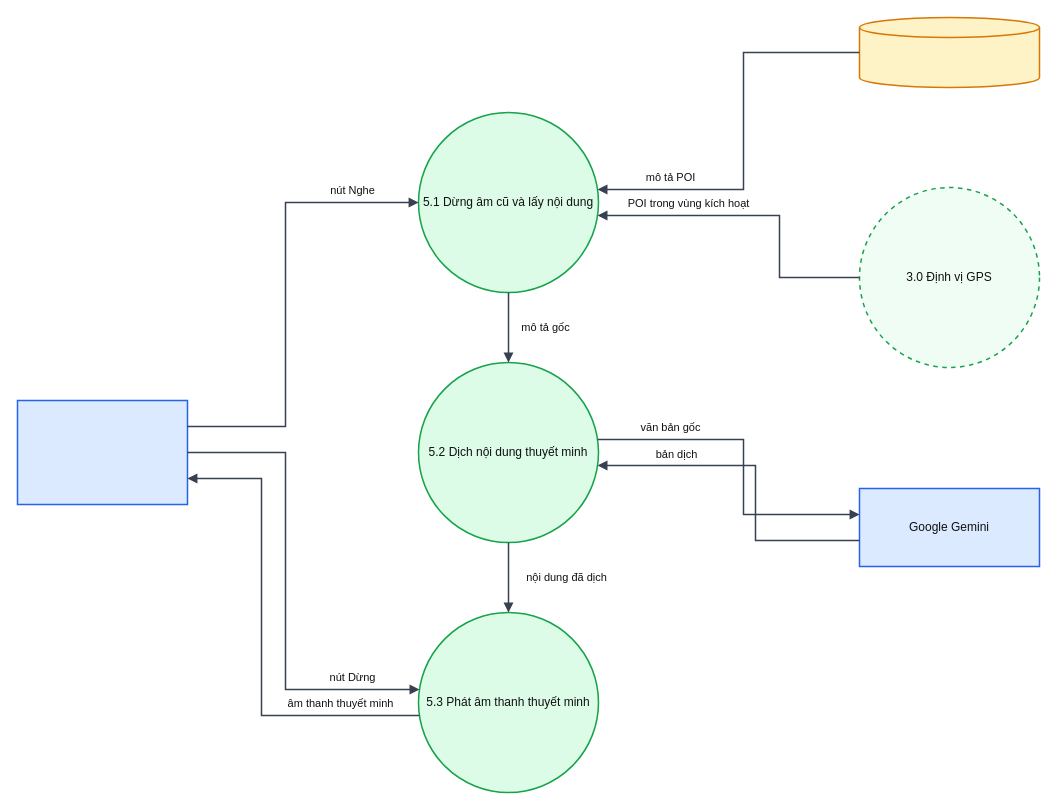
This 1058x811 diagram has some shape labels left out. The centre of each missing label's shape, as x and y in pixels:
"D1 POI" belongs at point (949, 52).
"Khách tham quan" belongs at point (102, 452).
